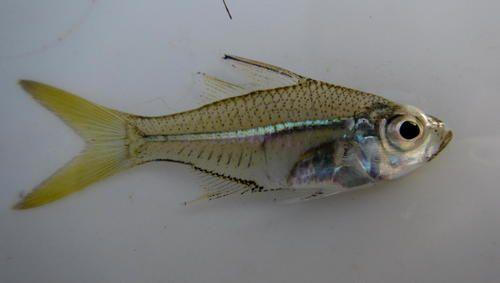Glass Perchlet: (15, 48, 456, 214)
